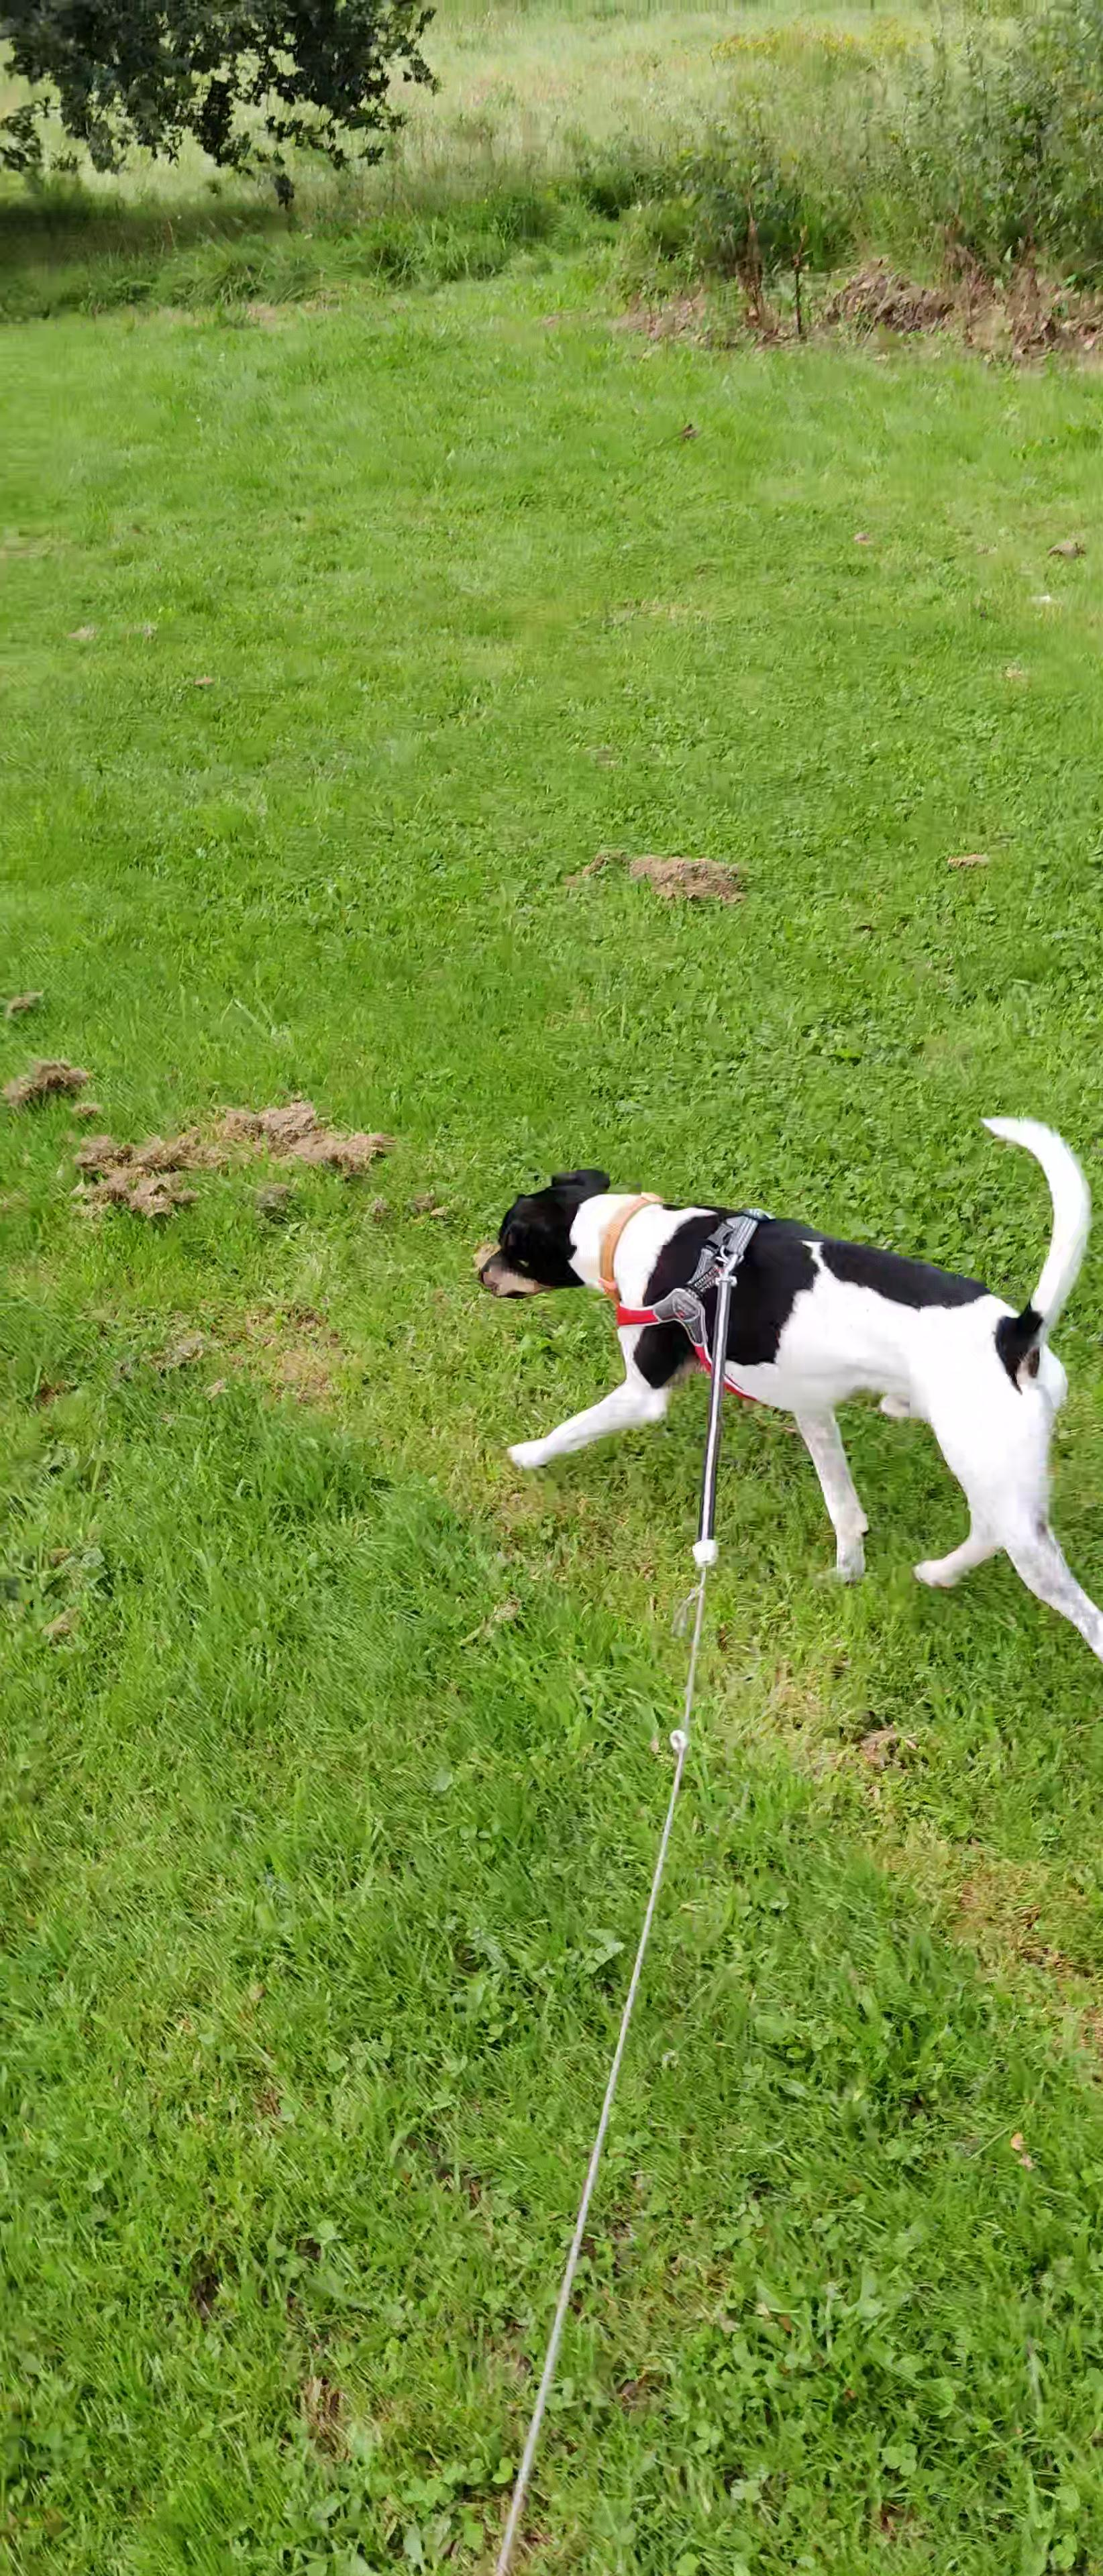Dog: (470, 1107, 1103, 1671)
